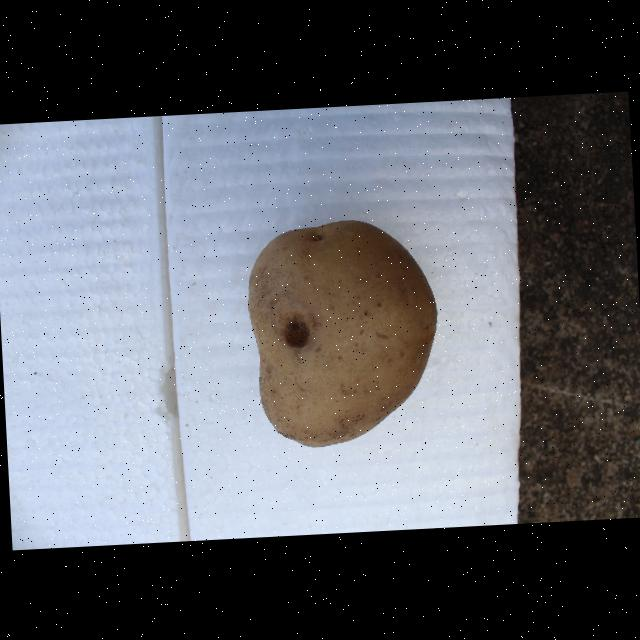Damaged potato: (238, 212, 448, 452)
